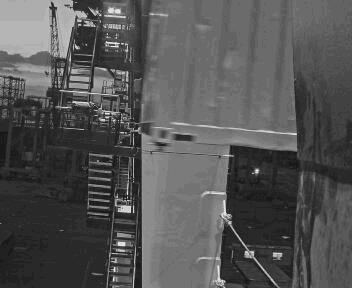twist_lock_1: (177, 165, 218, 197)
